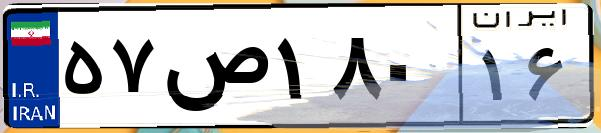0: (385, 28, 445, 110)
1: (270, 28, 330, 110), (475, 38, 525, 113)
5: (57, 26, 110, 100)
6: (525, 38, 570, 115)
7: (110, 28, 158, 98)
8: (330, 28, 385, 110)
ص: (158, 20, 270, 120)
